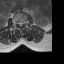CCS_normal: (20, 19, 21, 28)
LFS_normal: (23, 20, 25, 25)
LLS_normal: (21, 20, 23, 26)
RFS_normal: (16, 20, 18, 26)
RLS_normal: (18, 20, 20, 26)
